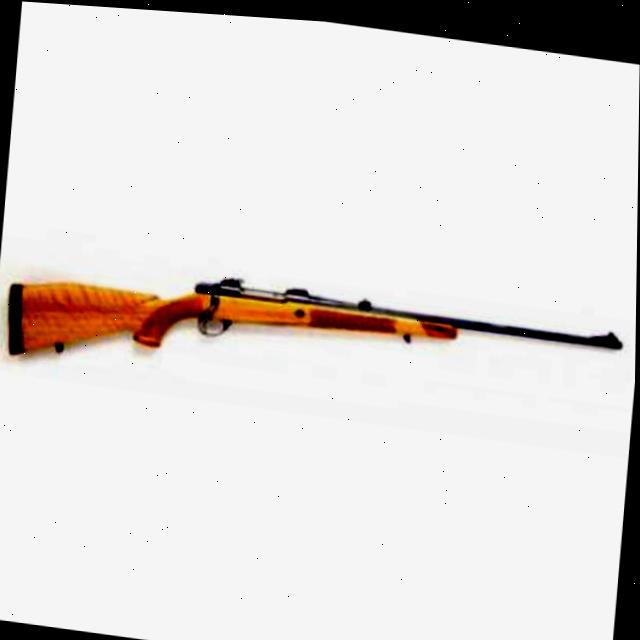rifle: (8, 241, 625, 427)
